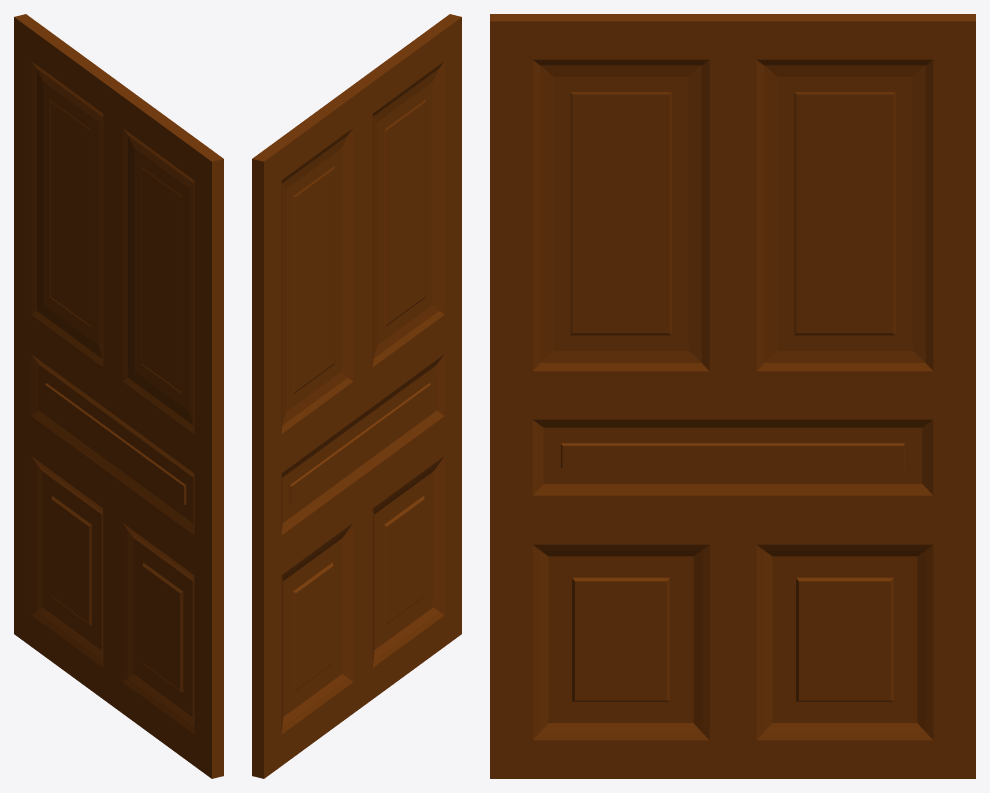
The model's file is Door.fbx.
3 views of the same model, side by side, from view 1: azimuth 30°, elevation 25°; view 2: azimuth 150°, elevation 25°; view 3: azimuth 270°, elevation 25° (orthographic). The views are drawn at different scales.
Parts seen in each view (by area): view 1: Cube; view 2: Cube; view 3: Cube.
Boxes of the visible parts, bbox=[...] form: Cube: bbox=[14, 14, 223, 778]; Cube: bbox=[252, 14, 461, 778]; Cube: bbox=[490, 14, 975, 778].
Size of the model in its own units: 4.9 by 240 by 140.
